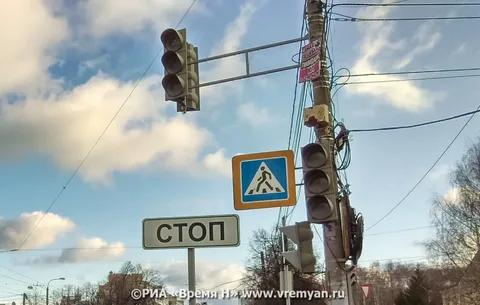off traffic light: (302, 140, 337, 223), (161, 28, 187, 100)
road_sign: (232, 151, 295, 210), (145, 215, 240, 249)
